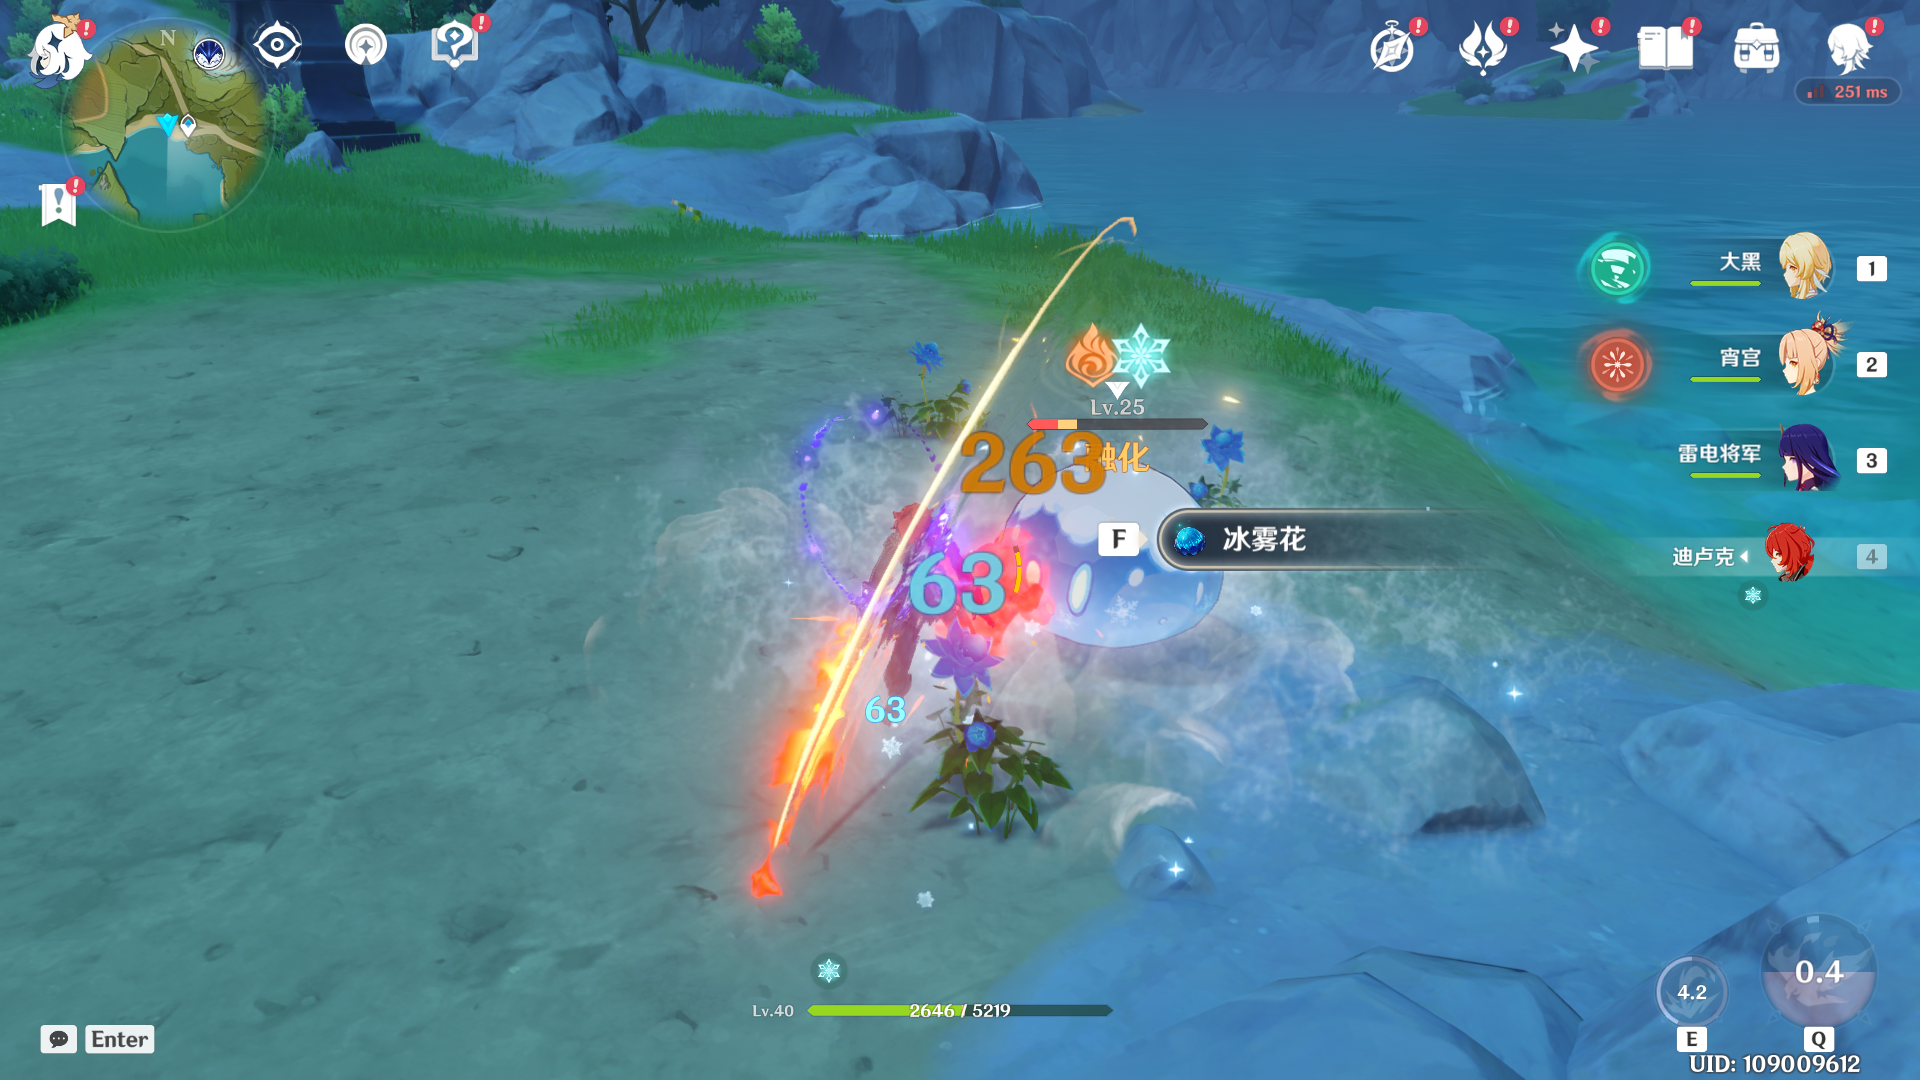character: (804, 477, 1033, 709)
slime: (975, 417, 1258, 655)
